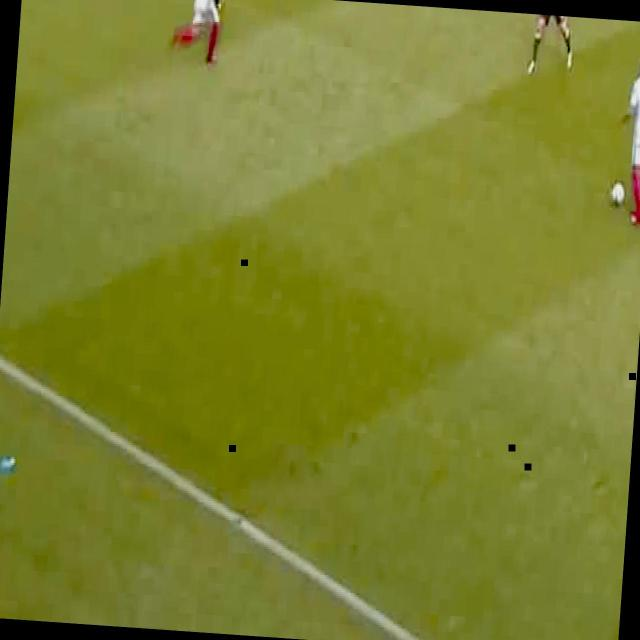ball: (610, 181, 625, 209)
player-white: (615, 48, 640, 226), (170, 0, 227, 68), (526, 14, 576, 75), (194, 0, 240, 34)
